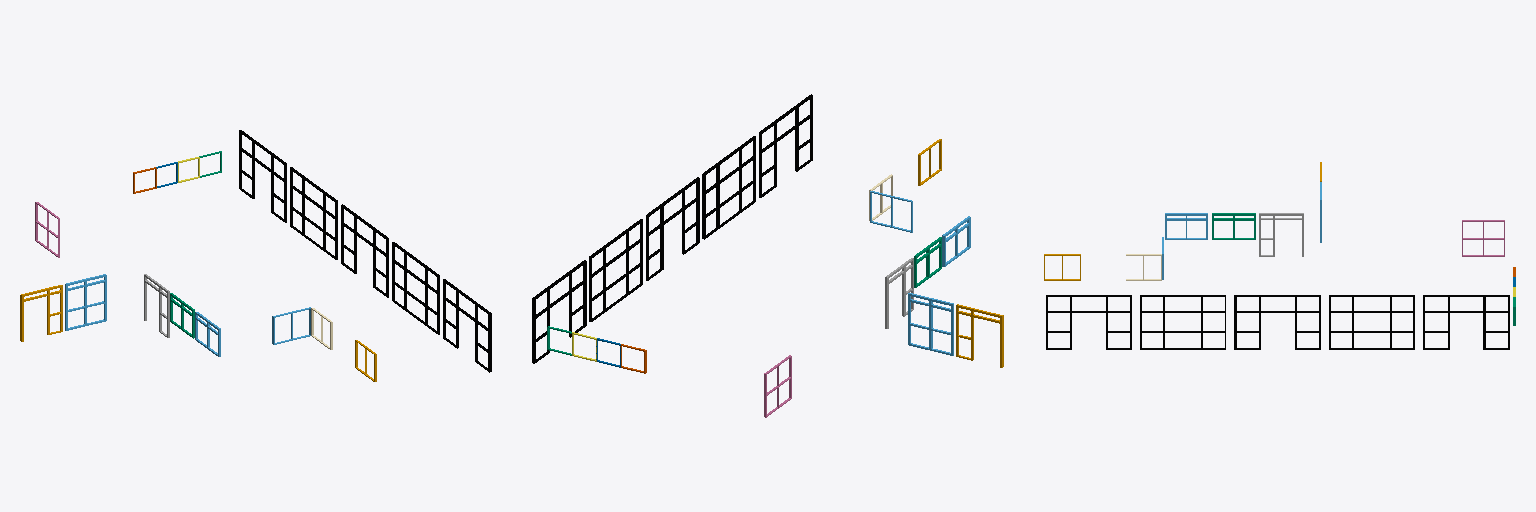
The robot description file, URDF, robot "adream":
<?xml version="0.0" ?>
<robot name="adream">

  <link concave="yes" name="adream_walls">
    <inertial>
      <origin rpy="0 0 0" xyz="0 0 0"/>
      <mass value=".0"/>
      <inertia ixx="0" ixy="0" ixz="0" iyy="0" iyz="0" izz="0"/>
    </inertial>
    <visual>
      <origin rpy="0 0 1.57" xyz="0 0 0"/>
      <geometry>
        <mesh filename="package://hello_worlds/assets/Adream/walls.obj" scale="1 1 1"/>
      </geometry>
    </visual>
    <collision>
      <origin rpy="0 0 1.57" xyz="0 0 0"/>
      <geometry>
        <mesh filename="package://hello_worlds/assets/Adream/walls_vhacd.obj" scale="1 1 1"/>
      </geometry>
    </collision>
  </link>

  <link name="adream_floor_expe">
    <contact>
      <lateral_friction value="1"/>
    </contact>
    <inertial>
      <origin rpy="0 0 0" xyz="0 0 0"/>
      <mass value=".0"/>
      <inertia ixx="0" ixy="0" ixz="0" iyy="0" iyz="0" izz="0"/>
    </inertial>
    <visual>
      <origin rpy="0 0 1.57" xyz="0 0 0.0"/>
      <geometry>
        <mesh filename="package://hello_worlds/assets/Adream/floor_expe.obj" scale="1 1 1"/>
      </geometry>
    </visual>
    <collision>
      <contact_coefficients mu="1000.0" kp="0.00" kd="0.0"/>
      <origin rpy="0 0 1.57" xyz="0 0 0.0"/>
      <geometry>
        <mesh filename="package://hello_worlds/assets/Adream/floor_expe_collision.obj" scale="1 1 1"/>
      </geometry>
    </collision>
  </link>

  <link name="adream_floor_hall">
    <contact>
      <lateral_friction value="1"/>
    </contact>
    <inertial>
      <origin rpy="0 0 0" xyz="0 0 0"/>
      <mass value=".0"/>
      <inertia ixx="0" ixy="0" ixz="0" iyy="0" iyz="0" izz="0"/>
    </inertial>
    <visual>
      <origin rpy="0 0 1.57" xyz="0 0 0.0"/>
      <geometry>
        <mesh filename="package://hello_worlds/assets/Adream/floor_hall.obj" scale="1 1 1"/>
      </geometry>
    </visual>
    <collision>
      <contact_coefficients mu="1000.0" kp="0.00" kd="0.0"/>
      <origin rpy="0 0 1.57" xyz="0 0 0.0"/>
      <geometry>
        <mesh filename="package://hello_worlds/assets/Adream/floor_hall_collision.obj" scale="1 1 1"/>
      </geometry>
    </collision>
  </link>

  <link name="adream_gg_roof">
    <inertial>
      <origin rpy="0 0 0" xyz="0 0 0"/>
      <mass value=".0"/>
      <inertia ixx="0" ixy="0" ixz="0" iyy="0" iyz="0" izz="0"/>
    </inertial>
    <visual>
      <origin rpy="0 0 0" xyz="0 0 0.0"/>
      <geometry>
        <mesh filename="package://hello_worlds/assets/Adream/visual_only/adream_gg_roof.obj" scale="1 1 1"/>
      </geometry>
    </visual>
  </link>

  <link name="guard_rail">
    <inertial>
      <origin rpy="0 0 0" xyz="0 0 0"/>
      <mass value=".0"/>
      <inertia ixx="0" ixy="0" ixz="0" iyy="0" iyz="0" izz="0"/>
    </inertial>
    <visual>
      <origin rpy="0 0 0" xyz="0 0 0.0"/>
      <geometry>
        <mesh filename="package://hello_worlds/assets/Adream/visual_only/guard_rail.obj" scale="1 1 1"/>
      </geometry>
    </visual>
  </link>

  <link name="ff_floor">
    <inertial>
      <origin rpy="0 0 0" xyz="0 0 0"/>
      <mass value=".0"/>
      <inertia ixx="0" ixy="0" ixz="0" iyy="0" iyz="0" izz="0"/>
    </inertial>
    <visual>
      <origin rpy="0 0 0" xyz="0 0 0.0"/>
      <geometry>
        <mesh filename="package://hello_worlds/assets/Adream/visual_only/ff_floor.obj" scale="1 1 1"/>
      </geometry>
    </visual>
  </link>

  <link name="ff_walls">
    <inertial>
      <origin rpy="0 0 0" xyz="0 0 0"/>
      <mass value=".0"/>
      <inertia ixx="0" ixy="0" ixz="0" iyy="0" iyz="0" izz="0"/>
    </inertial>
    <visual>
      <origin rpy="0 0 0" xyz="0 0 0.0"/>
      <geometry>
        <mesh filename="package://hello_worlds/assets/Adream/visual_only/ff_walls.obj" scale="1 1 1"/>
      </geometry>
    </visual>
  </link>

  <link name="hall_roof">
    <inertial>
      <origin rpy="0 0 0" xyz="0 0 0"/>
      <mass value=".0"/>
      <inertia ixx="0" ixy="0" ixz="0" iyy="0" iyz="0" izz="0"/>
    </inertial>
    <visual>
      <origin rpy="0 0 0" xyz="0 0 0.0"/>
      <geometry>
        <mesh filename="package://hello_worlds/assets/Adream/hall_roof.obj" scale="1 1 1"/>
      </geometry>
    </visual>
  </link>

  <link name="adream_window_h10_1">
    <inertial>
      <origin rpy="0 0 0" xyz="0 0 0"/>
      <mass value=".0"/>
      <inertia ixx="0" ixy="0" ixz="0" iyy="0" iyz="0" izz="0"/>
    </inertial>
    <visual>
      <origin rpy="0 0 1.57" xyz="0 0 0.0"/>
      <geometry>
        <mesh filename="package://hello_worlds/assets/Adream/windows/window_h10_1.stl" scale="1 1 1"/>
      </geometry>
      <material name="black">
        <color rgba="0.03 0.03 0.03 1"/>
      </material>
    </visual>
  </link>

  <link name="adream_window_h10_2">
    <visual>
      <geometry>
        <mesh filename="package://hello_worlds/assets/Adream/windows/window_outside_tall.obj" scale="1 1.022 1"/>
      </geometry>
    </visual>
  </link>

  <link name="adream_window_door_outside_3x3_1">
    <visual>
      <origin rpy="0 0 1.57" xyz="0 0 0.0"/>
      <geometry>
        <mesh filename="package://hello_worlds/assets/Adream/windows/window_door_outside_3x3.obj" scale="1 1 1"/>
      </geometry>
      <material name="black">
        <color rgba="0.03 0.03 0.03 1"/>
      </material>
    </visual>
  </link>

  <link name="adream_window_door_outside_3x3_2">
    <visual>
      <origin rpy="0 0 1.57" xyz="0 0 0.0"/>
      <geometry>
        <mesh filename="package://hello_worlds/assets/Adream/windows/window_door_outside_3x3.obj" scale="1 1 1"/>
      </geometry>
      <material name="black">
        <color rgba="0.03 0.03 0.03 1"/>
      </material>
    </visual>
  </link>

  <link name="adream_window_door_outside_3x3_3">
    <visual>
      <origin rpy="0 0 1.57" xyz="0 0 0.0"/>
      <geometry>
        <mesh filename="package://hello_worlds/assets/Adream/windows/window_door_outside_3x3.obj" scale="1 1 1"/>
      </geometry>
      <material name="black">
        <color rgba="0.03 0.03 0.03 1"/>
      </material>
    </visual>
  </link>

  <link name="adream_window_outside_3x3_1">
    <visual>
      <origin rpy="0 0 1.57" xyz="0 0 0.0"/>
      <geometry>
        <mesh filename="package://hello_worlds/assets/Adream/windows/window_outside_3x3.obj" scale="1 1 1"/>
      </geometry>
      <material name="black">
        <color rgba="0.03 0.03 0.03 1"/>
      </material>
    </visual>
  </link>

  <link name="adream_window_outside_3x3_2">
    <visual>
      <origin rpy="0 0 1.57" xyz="0 0 0.0"/>
      <geometry>
        <mesh filename="package://hello_worlds/assets/Adream/windows/window_outside_3x3.obj" scale="1 1 1"/>
      </geometry>
      <material name="black">
        <color rgba="0.03 0.03 0.03 1"/>
      </material>
    </visual>
  </link>

  <link name="adream_window_h22_1">
    <visual>
      <origin rpy="0 0 0" xyz="0. 0. 0."/>
      <geometry>
        <mesh filename="package://hello_worlds/assets/Adream/windows/window_h22.obj" scale="1 1 1"/>
      </geometry>
      <material name="white_wood">
        <color rgba="1.0 0.948 0.8 1"/>
      </material>
    </visual>
  </link>

  <link name="adream_window_h22_2">
    <visual>
      <geometry>
        <mesh filename="package://hello_worlds/assets/Adream/windows/window_h22.obj" scale="1 1 1"/>
      </geometry>
    </visual>
  </link>

  <link name="adream_window_h22_3">
    <visual>
      <origin rpy="0 0 1.57" xyz="0 0 0.0"/>
      <geometry>
        <mesh filename="package://hello_worlds/assets/Adream/windows/window_h22.obj" scale="1 1.12 1"/>
      </geometry>
    </visual>
  </link>

  <link name="adream_window_h20_3">
    <visual>
      <geometry>
        <mesh filename="package://hello_worlds/assets/Adream/windows/window_single_frame.obj" scale="1 1 1"/>
      </geometry>
    </visual>
  </link>

  <link name="adream_window_h20_4">
    <visual>
      <geometry>
        <mesh filename="package://hello_worlds/assets/Adream/windows/window_single_frame.obj" scale="1 1 1"/>
      </geometry>
    </visual>
  </link>

  <link name="adream_window_h20_5">
    <visual>
      <geometry>
        <mesh filename="package://hello_worlds/assets/Adream/windows/window_single_frame.obj" scale="1 1 1"/>
      </geometry>
    </visual>
  </link>

  <link name="adream_window_h20_6">
    <visual>
      <geometry>
        <mesh filename="package://hello_worlds/assets/Adream/windows/window_single_frame.obj" scale="1 1 1"/>
      </geometry>
    </visual>
  </link>

  <link name="adream_window_h20_7">
    <visual>
      <origin rpy="0 0 1.57" xyz="0 0 0.0"/>
      <geometry>
        <mesh filename="package://hello_worlds/assets/Adream/windows/window_four_frames.obj" scale="1 1 1"/>
      </geometry>
    </visual>
  </link>

  <link name="adream_window_door_1">
    <visual>
      <origin rpy="0 0 3.1415" xyz="0 0 0.0"/>
      <geometry>
        <mesh filename="package://hello_worlds/assets/Adream/windows/window_door.obj" scale="1 1 1"/>
      </geometry>
    </visual>
  </link>

  <link name="adream_window_door_2">
    <visual>
      <origin rpy="0 0 -1.57" xyz="0 0 0.0"/>
      <geometry>
        <mesh filename="package://hello_worlds/assets/Adream/windows/window_door.obj" scale="1 1 1"/>
      </geometry>
    </visual>
  </link>

  <link name="adream_window_h20_8">
    <visual>
      <geometry>
        <mesh filename="package://hello_worlds/assets/Adream/windows/window_outside_double.obj" scale="1 1 1"/>
      </geometry>
    </visual>
  </link>

  <link name="adream_window_h20_9">
    <visual>
      <geometry>
        <mesh filename="package://hello_worlds/assets/Adream/windows/window_outside_double.obj" scale="1 1 1"/>
      </geometry>
    </visual>
  </link>

  <link name="adream_window_h100_1">
    <inertial>
      <origin rpy="0 0 0" xyz="0 0 0"/>
      <mass value=".0"/>
      <inertia ixx="0" ixy="0" ixz="0" iyy="0" iyz="0" izz="0"/>
    </inertial>
    <visual>
      <origin rpy="0 0 0" xyz="0 0 0.0"/>
      <geometry>
        <mesh filename="package://hello_worlds/assets/Adream/windows/window_h100_1.obj" scale="1 1 1"/>
      </geometry>
      <material name="black">
        <color rgba="1.0 0.948 0.8 1"/>
      </material>
    </visual>
  </link>

  <link name="adream_window_h100_2">
    <inertial>
      <origin rpy="0 0 0" xyz="0 0 0"/>
      <mass value=".0"/>
      <inertia ixx="0" ixy="0" ixz="0" iyy="0" iyz="0" izz="0"/>
    </inertial>
    <visual>
      <origin rpy="0 0 0" xyz="0 0 0.0"/>
      <geometry>
        <mesh filename="package://hello_worlds/assets/Adream/windows/window_h100_2.obj" scale="1 1 1"/>
      </geometry>
      <material name="black">
        <color rgba="0.03 0.03 0.03 1"/>
      </material>
    </visual>
  </link>

  <link name="adream_window_h100_3">
    <inertial>
      <origin rpy="0 0 0" xyz="0 0 0"/>
      <mass value=".0"/>
      <inertia ixx="0" ixy="0" ixz="0" iyy="0" iyz="0" izz="0"/>
    </inertial>
    <visual>
      <origin rpy="0 0 0" xyz="0 0 0.0"/>
      <geometry>
        <mesh filename="package://hello_worlds/assets/Adream/windows/window_h100_3.obj" scale="1 1 1"/>
      </geometry>
      <material name="black">
        <color rgba="0.03 0.03 0.03 1"/>
      </material>
    </visual>
  </link>

  <link concave="yes" name="adream_appartment">
    <inertial>
      <origin rpy="0 0 0" xyz="0 0 0"/>
      <mass value=".0"/>
      <inertia ixx="0" ixy="0" ixz="0" iyy="0" iyz="0" izz="0"/>
    </inertial>
    <visual>
      <origin rpy="0 0 1.57" xyz="0 0 0"/>
      <geometry>
        <mesh filename="package://hello_worlds/assets/Adream/appartment.obj" scale="1 1 1"/>
      </geometry>
      <!--material name="red">
        <color rgba="1 1 1 1"/>
      </material-->
    </visual>
    <collision>
      <origin rpy="0 0 1.57" xyz="0 0 0.0"/>
      <geometry>
        <mesh filename="package://hello_worlds/assets/Adream/appartment_vhacd.obj" scale="1 1 1"/>
      </geometry>
    </collision>
  </link>

  <joint name="base_to_floor" type="fixed">
    <parent link="adream_walls"/>
    <child link="adream_floor_expe"/>
  </joint>

  <joint name="base_to_floor_hall" type="fixed">
    <parent link="adream_walls"/>
    <child link="adream_floor_hall"/>
  </joint>

  <joint name="base_to_appartment" type="fixed">
    <parent link="adream_walls"/>
    <child link="adream_appartment"/>
  </joint>

  <joint name="base_to_adream_window_h10_1" type="fixed">
    <parent link="adream_walls"/>
    <child link="adream_window_h10_1"/>
  </joint>

  <joint name="base_to_adream_window_h100_3" type="fixed">
    <parent link="adream_walls"/>
    <child link="adream_window_h100_3"/>
  </joint>

  <joint name="base_to_adream_window_h100_2" type="fixed">
    <parent link="adream_walls"/>
    <child link="adream_window_h100_2"/>
  </joint>

  <joint name="base_to_adream_window_h100_1" type="fixed">
    <parent link="adream_walls"/>
    <child link="adream_window_h100_1"/>
  </joint>

  <joint name="base_to_adream_gg_roof" type="fixed">
    <parent link="adream_walls"/>
    <child link="adream_gg_roof"/>
  </joint>

  <joint name="base_to_guard_rail" type="fixed">
    <parent link="adream_walls"/>
    <child link="guard_rail"/>
  </joint>

  <joint name="base_to_ff_floor" type="fixed">
    <parent link="adream_walls"/>
    <child link="ff_floor"/>
  </joint>

  <joint name="base_to_ff_walls" type="fixed">
    <parent link="adream_walls"/>
    <child link="ff_walls"/>
  </joint>

  <joint name="base_to_hall_roof" type="fixed">
    <parent link="adream_walls"/>
    <child link="hall_roof"/>
  </joint>

  <joint name="base_to_adream_window_h10_2" type="fixed">
    <parent link="adream_walls"/>
    <child link="adream_window_h10_2"/>
    <origin rpy="0 0 0" xyz="-2.8639 8.2988 1.4249"/>
  </joint>

  <joint name="base_to_adream_window_h22_1" type="fixed">
    <parent link="adream_walls"/>
    <child link="adream_window_h22_1"/>
    <origin rpy="0 0 0" xyz="5.0627 -1.0579 1.7611"/>
  </joint>

  <joint name="base_to_adream_window_h22_2" type="fixed">
    <parent link="adream_walls"/>
    <child link="adream_window_h22_2"/>
    <origin rpy="0 0 0" xyz="5.0627 -5.3393 1.7611"/>
  </joint>

  <joint name="base_to_adream_window_h22_3" type="fixed">
    <parent link="adream_walls"/>
    <child link="adream_window_h22_3"/>
    <origin rpy="0 0 0" xyz="3.95 -0.04475 1.7611"/>
  </joint>

  <joint name="base_to_adream_window_h20_3" type="fixed">
    <parent link="adream_walls"/>
    <child link="adream_window_h20_3"/>
    <origin rpy="0 0 0" xyz="10.06 18.508 1.5531"/>
  </joint>

  <joint name="base_to_adream_window_h20_4" type="fixed">
    <parent link="adream_walls"/>
    <child link="adream_window_h20_4"/>
    <origin rpy="0 0 0" xyz="8.8243 18.508 1.5531"/>
  </joint>

  <joint name="base_to_adream_window_h20_5" type="fixed">
    <parent link="adream_walls"/>
    <child link="adream_window_h20_5"/>
    <origin rpy="0 0 0" xyz="7.584 18.508 1.5531"/>
  </joint>

  <joint name="base_to_adream_window_h20_6" type="fixed">
    <parent link="adream_walls"/>
    <child link="adream_window_h20_6"/>
    <origin rpy="0 0 0" xyz="6.3587 18.508 1.5531"/>
  </joint>

  <joint name="base_to_adream_window_h20_7" type="fixed">
    <parent link="adream_walls"/>
    <child link="adream_window_h20_7"/>
  </joint>

  <joint name="base_to_adream_window_h20_8" type="fixed">
    <parent link="adream_walls"/>
    <child link="adream_window_h20_8"/>
    <origin rpy="0 0 0" xyz="-0.060667 1.2035 1.8868"/>
  </joint>

  <joint name="base_to_adream_window_h20_9" type="fixed">
    <parent link="adream_walls"/>
    <child link="adream_window_h20_9"/>
    <origin rpy="0 0 0" xyz="-0.060667 3.6972 1.8868"/>
  </joint>

  <joint name="base_to_adream_window_door_1" type="fixed">
    <parent link="adream_walls"/>
    <child link="adream_window_door_1"/>
    <origin rpy="0 0 0" xyz="-0.060789 6.0788 1.4258"/>
  </joint>

  <joint name="base_to_adream_window_door_2" type="fixed">
    <parent link="adream_walls"/>
    <child link="adream_window_door_2"/>
    <origin rpy="0 0 0" xyz="-5.2078 8.2955 1.4258"/>
  </joint>

  <joint name="base_to_adream_window_outside_3x3_1" type="fixed">
    <parent link="adream_walls"/>
    <child link="adream_window_outside_3x3_1"/>
    <origin rpy="0 0 0" xyz="11.573 1.0355 1.5932"/>
  </joint>

  <joint name="base_to_adream_window_outside_3x3_2" type="fixed">
    <parent link="adream_walls"/>
    <child link="adream_window_outside_3x3_2"/>
    <origin rpy="0 0 0" xyz="11.571 11.001 1.5929"/>
  </joint>

  <joint name="base_to_adream_window_door_outside_3x3_1" type="fixed">
    <parent link="adream_walls"/>
    <child link="adream_window_door_outside_3x3_1"/>
    <origin rpy="0 0 0" xyz="11.573 15.98 1.5938"/>
  </joint>

  <joint name="base_to_adream_window_door_outside_3x3_2" type="fixed">
    <parent link="adream_walls"/>
    <child link="adream_window_door_outside_3x3_2"/>
    <origin rpy="0 0 0" xyz="11.573 6.0135 1.5938"/>
  </joint>

  <joint name="base_to_adream_window_door_outside_3x3_3" type="fixed">
    <parent link="adream_walls"/>
    <child link="adream_window_door_outside_3x3_3"/>
    <origin rpy="0 0 0" xyz="11.573 -3.9512 1.5938"/>
  </joint>

</robot>

--- What the picture shows (computed from the rendered views, not written in the file) ---
Views: 3 orthographic renders of the robot side by side, from view 1: azimuth 30°, elevation 25°; view 2: azimuth 150°, elevation 25°; view 3: azimuth 270°, elevation 25°.
Robot: adream — 31 links, 30 joints (30 fixed); root link adream_walls; default pose: all joints at 0.
Links seen in each view (by area): view 1: adream_window_outside_3x3_1, adream_window_outside_3x3_2, adream_window_door_outside_3x3_3, adream_window_door_outside_3x3_2, adream_window_door_outside_3x3_1, adream_window_h10_2, adream_window_door_2, adream_window_door_1; view 2: adream_window_outside_3x3_1, adream_window_outside_3x3_2, adream_window_door_outside_3x3_2, adream_window_door_outside_3x3_3, adream_window_door_outside_3x3_1, adream_window_h10_2, adream_window_door_2, adream_window_door_1, adream_window_h20_8, adream_window_h20_9, adream_window_h20_7; view 3: adream_window_outside_3x3_2, adream_window_outside_3x3_1, adream_window_door_outside_3x3_1, adream_window_door_outside_3x3_2, adream_window_door_outside_3x3_3.
Boxes of the visible links, x1,y1,x2,y2 form: adream_window_outside_3x3_1: (392, 242, 439, 334); adream_window_outside_3x3_2: (290, 167, 337, 259); adream_window_door_outside_3x3_3: (443, 279, 491, 372); adream_window_door_outside_3x3_2: (341, 204, 388, 297); adream_window_door_outside_3x3_1: (239, 130, 286, 222); adream_window_h10_2: (65, 274, 106, 330); adream_window_door_2: (20, 285, 62, 341); adream_window_door_1: (144, 274, 169, 337); adream_window_outside_3x3_1: (702, 136, 755, 239); adream_window_outside_3x3_2: (589, 219, 642, 321); adream_window_door_outside_3x3_2: (646, 177, 699, 280); adream_window_door_outside_3x3_3: (759, 94, 812, 197); adream_window_door_outside_3x3_1: (532, 260, 586, 363); adream_window_h10_2: (908, 293, 953, 355); adream_window_door_2: (956, 304, 1003, 367); adream_window_door_1: (885, 258, 913, 328); adream_window_h20_8: (942, 216, 970, 266); adream_window_h20_9: (914, 237, 941, 287); adream_window_h20_7: (764, 355, 791, 417); adream_window_outside_3x3_2: (1329, 295, 1414, 349); adream_window_outside_3x3_1: (1140, 295, 1225, 349); adream_window_door_outside_3x3_1: (1423, 295, 1509, 349); adream_window_door_outside_3x3_2: (1234, 295, 1320, 349); adream_window_door_outside_3x3_3: (1046, 295, 1131, 349).
Size in the robot's own frame: 18.14 by 24.86 by 3.18 metres.
18 mesh visuals loaded from 21 distinct referenced files (8 OBJ); not drawn: 13 (reference not matched to a file when rendering).
